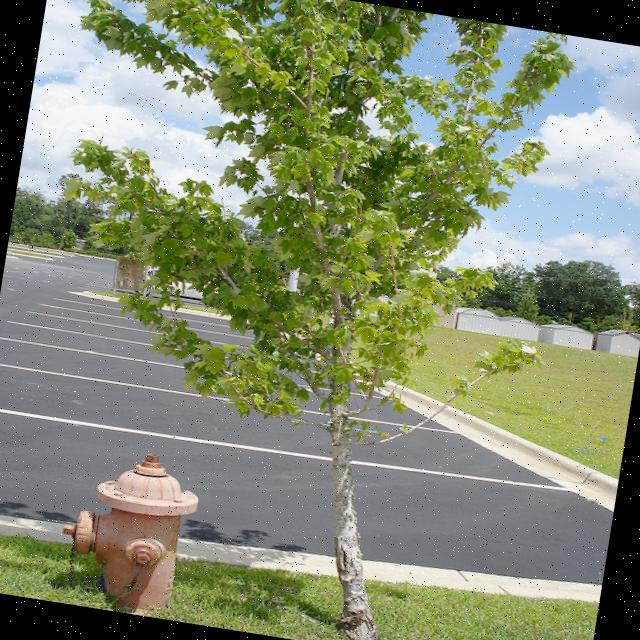fire_hydrant: (47, 442, 208, 614)
